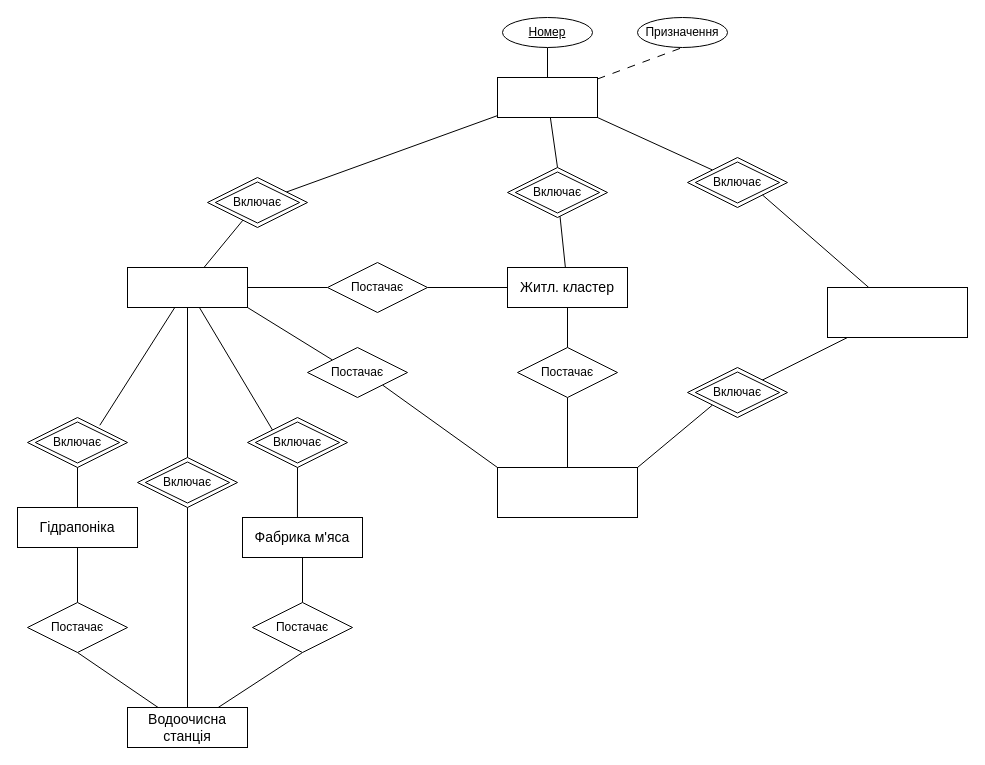
This 985x765 diagram has some shape labels left out. Each missing label, with the centre of its shape:
"Припасний кластер" belongs at point 187,287.
"Сполучний кластер" belongs at point 897,312.
"Сховище" belongs at point 547,97.
"Центр. Аккумулятор" belongs at point 567,492.
